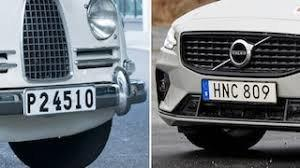license-plates: (203, 80, 278, 103)
